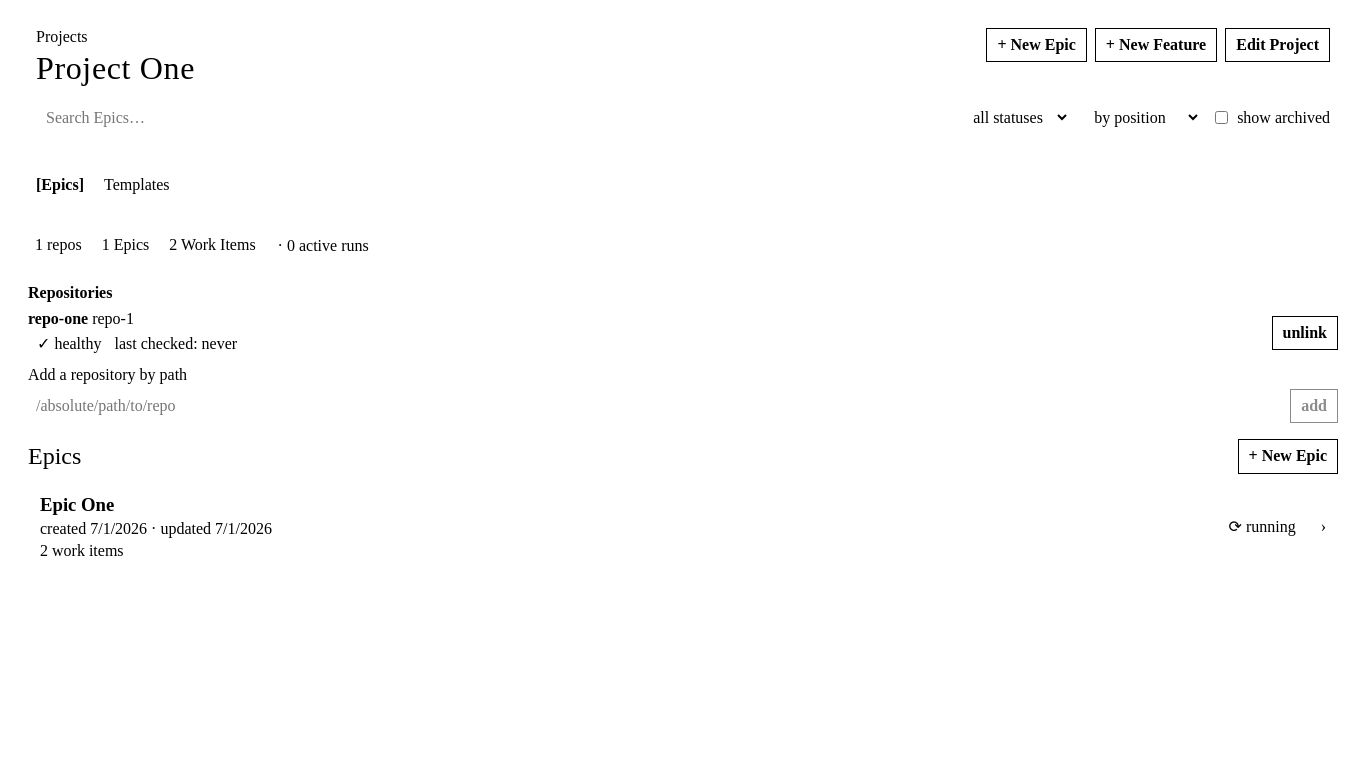
Test: not_started pill and Templates tab isolation (PF-10, PF-11) › Templates tab shows workflow section and hides epic rows; switching back to Epics restores the list
The width and height of the screenshot is (1366, 768).
Click the button "Templates": coordinates (137, 185) [96,170,178,200]
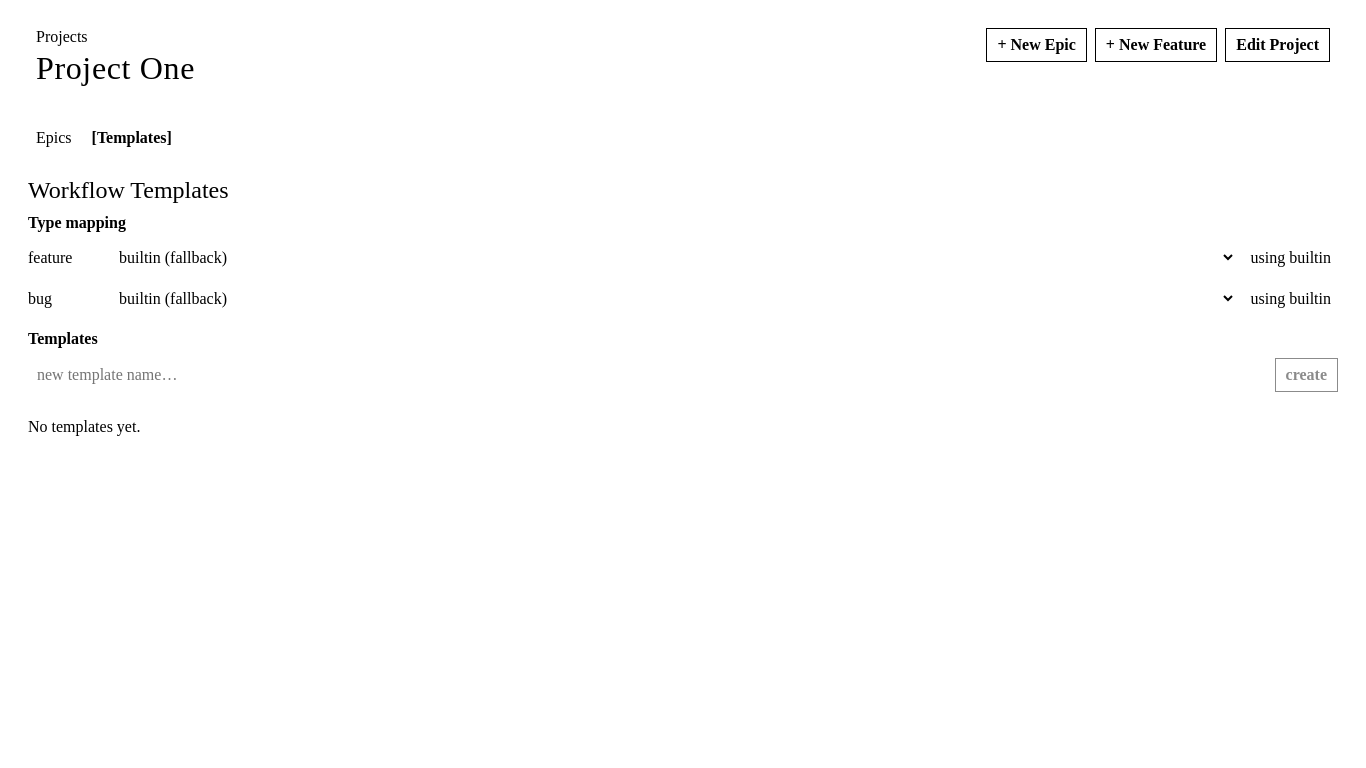
expect the text "Workflow Templates" is shown: met, box [28,177,229,203]
Click the button "Epics": coordinates (54, 138) [28,123,80,153]
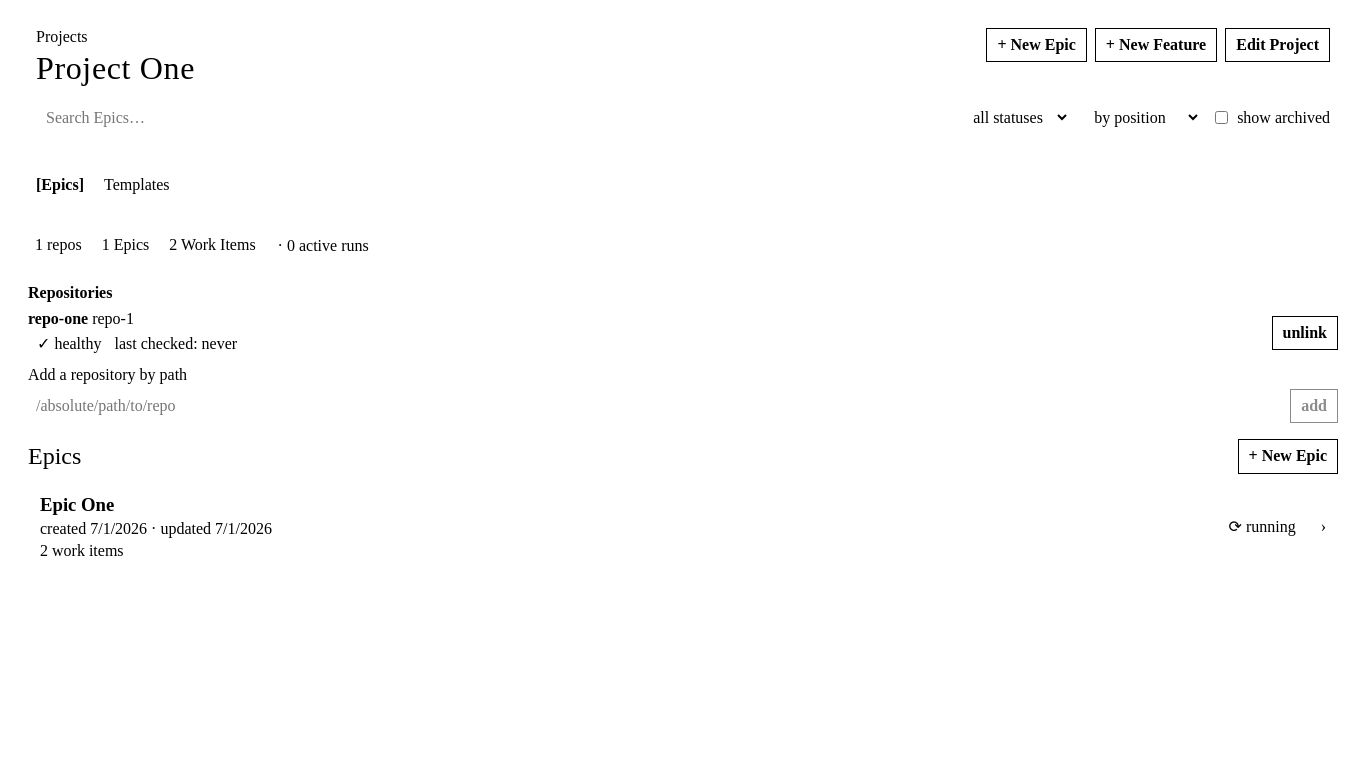
expect the text "Workflow Templates" is gone: met
